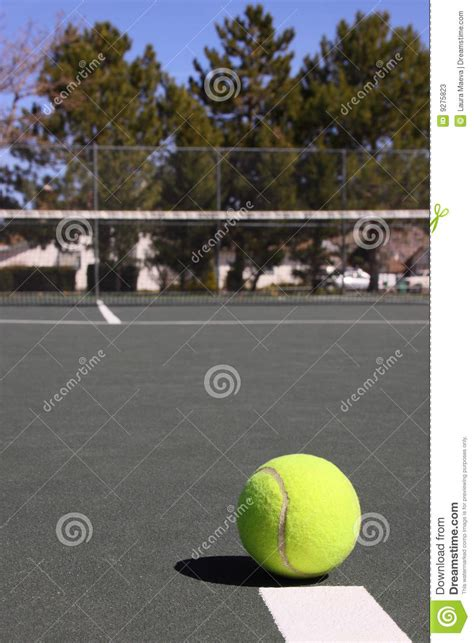tennis_ball: (237, 453, 360, 578)
